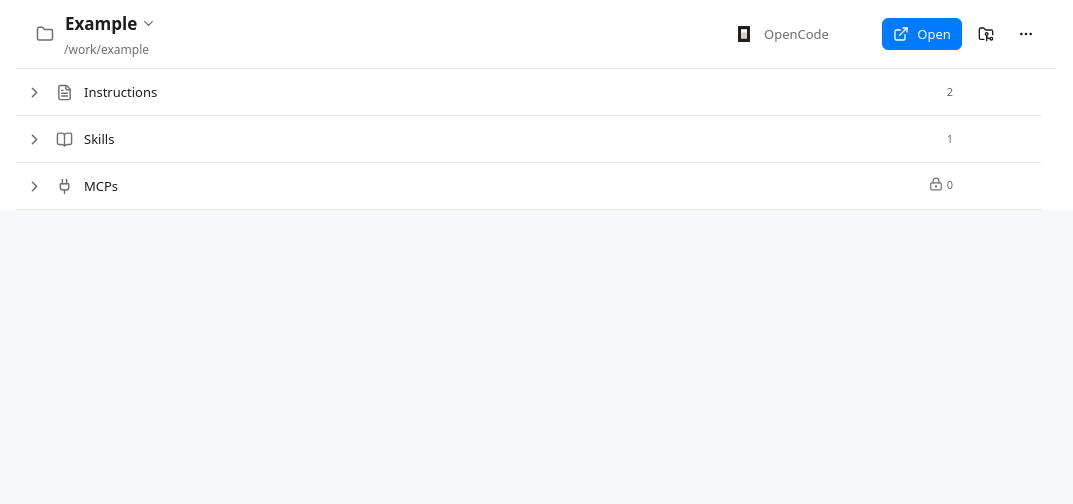
ProjectsWorkspace › previews every detected Workspace instruction file
Click the button with aria-label "Expand Instructions": [121, 92] box x1=16 y1=69 x2=963 y2=115
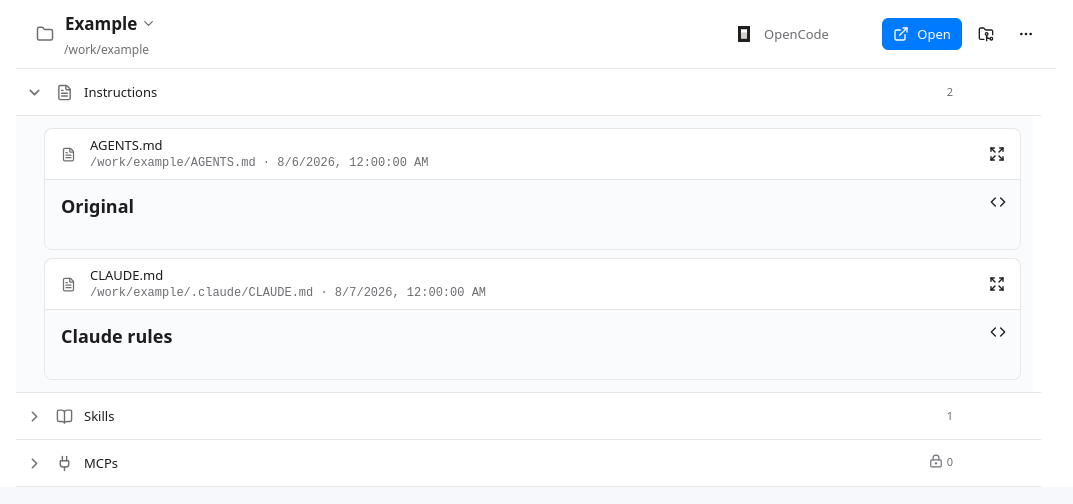
Now the element named "Preview of AGENTS.md" reads "Original", box x1=61 y1=194 x2=134 y2=218
Now the element named "Preview of CLAUDE.md" reads "Claude rules", box x1=61 y1=324 x2=172 y2=348
